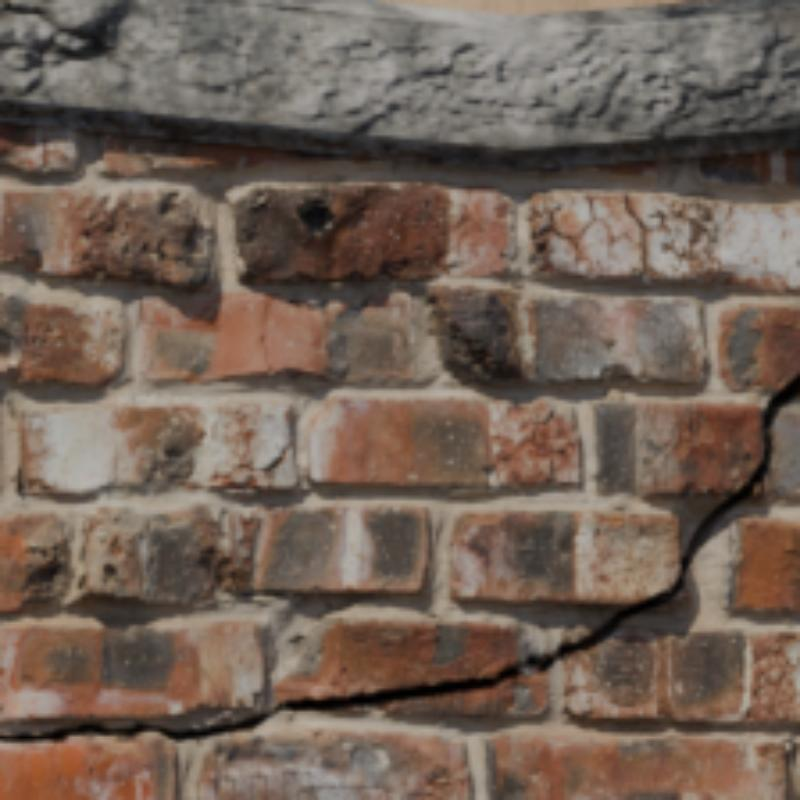crack: (0, 375, 796, 739)
